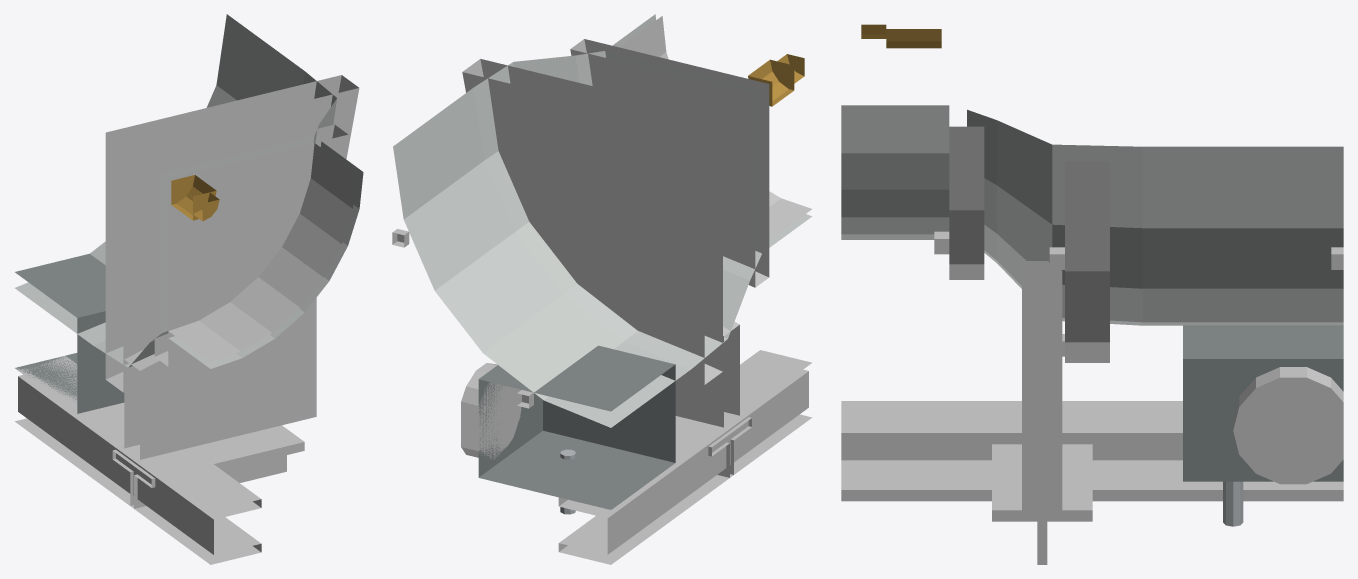
The model's file is cell_54.obj.
3 renders of one model, left to right at view 1: azimuth 30°, elevation 25°; view 2: azimuth 150°, elevation 25°; view 3: azimuth 270°, elevation 25°, orthographic. The views are drawn at different scales.
Size of the model in its own units: 0.695 by 1 by 1.
